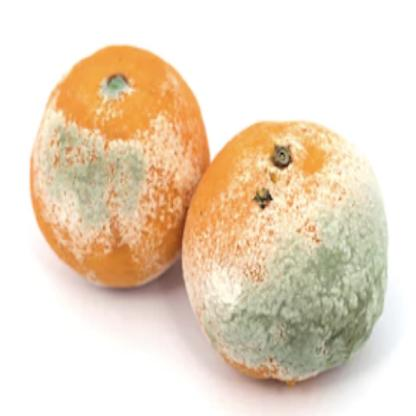rotten: (29, 44, 387, 391)
